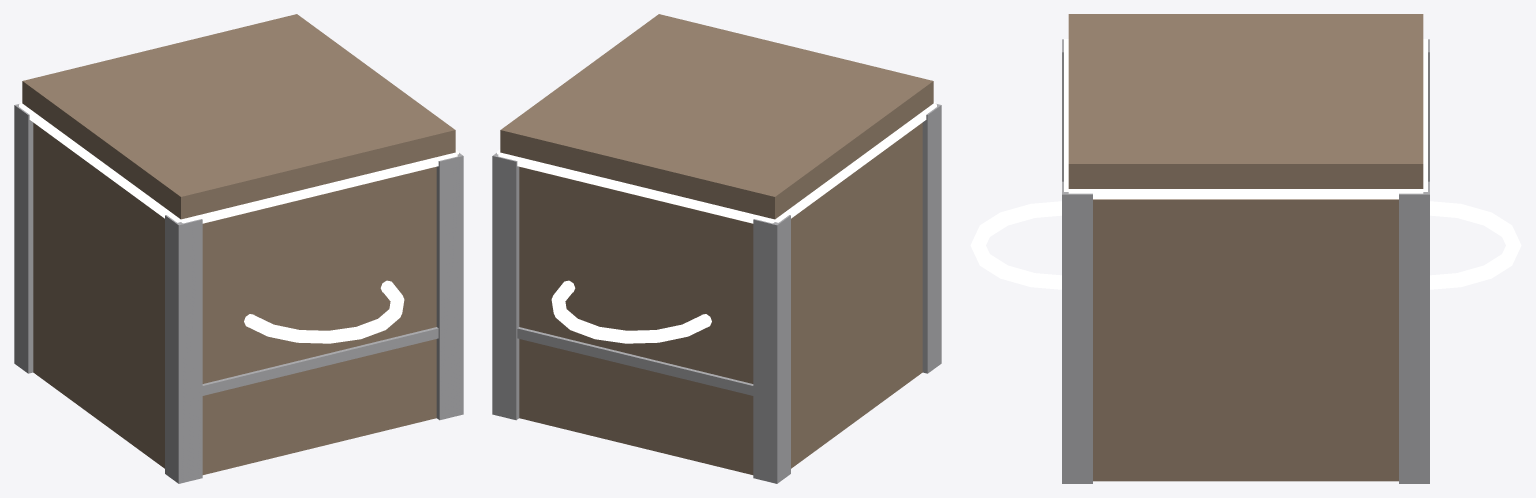
Rendered from crate_epic.glb.
3 views of the same model, side by side, from view 1: azimuth 30°, elevation 25°; view 2: azimuth 150°, elevation 25°; view 3: azimuth 270°, elevation 25° (orthographic). The views are drawn at different scales.
Parts seen in each view (by area): view 1: crate_body, lid_q3, lid_q4, lid_q1, lid_q2, seam_back, seam_left; view 2: crate_body, lid_q1, lid_q2, lid_q3, lid_q4, seam_front, seam_left; view 3: crate_body, lid_q2, lid_q4, lid_q1, lid_q3, seam_right, seam_back, seam_front.
Boxes of the visible parts, x1,y1,x2,y2 form: crate_body: (14, 104, 463, 483); lid_q3: (101, 105, 318, 219); lid_q4: (239, 72, 455, 185); lid_q1: (22, 47, 238, 160); lid_q2: (160, 14, 375, 105); seam_back: (181, 152, 457, 223); seam_left: (19, 103, 180, 222); crate_body: (492, 104, 941, 483); lid_q1: (637, 105, 854, 219); lid_q2: (500, 72, 716, 185); lid_q3: (717, 47, 933, 160); lid_q4: (580, 14, 795, 105); seam_front: (498, 152, 774, 223); seam_left: (775, 103, 936, 222); crate_body: (970, 39, 1521, 483); lid_q2: (1246, 89, 1423, 188); lid_q4: (1068, 89, 1245, 188); lid_q1: (1246, 14, 1423, 88); lid_q3: (1068, 14, 1245, 88); seam_right: (1068, 189, 1423, 199); seam_back: (1064, 39, 1068, 191); seam_front: (1423, 39, 1427, 191).
Bounding box in the file's own units: 1.19 × 1.13 × 1.79.
